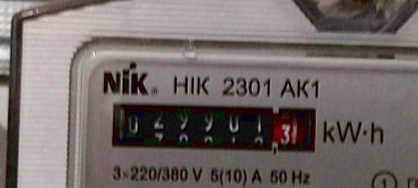0: (226, 109, 242, 134), (125, 112, 141, 134)
1: (253, 109, 266, 134)
2: (151, 107, 167, 130)
3: (278, 122, 294, 145)
9: (202, 110, 215, 133), (177, 108, 190, 129)
screen: (104, 94, 326, 162)
